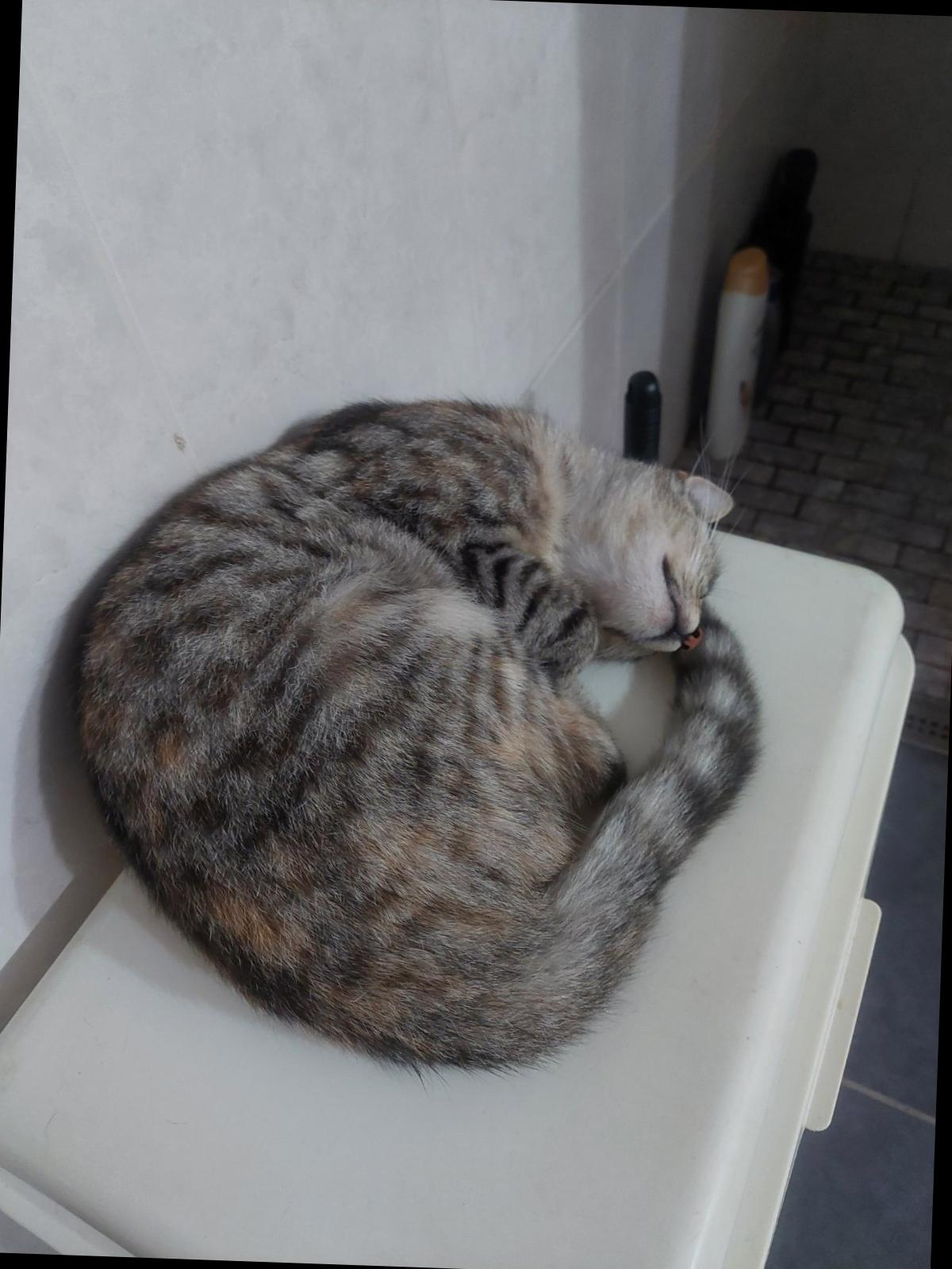macka: (56, 387, 774, 1084)
